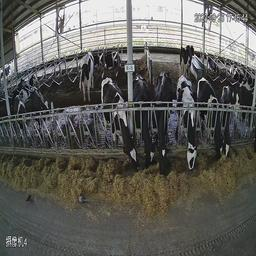cow: (99, 76, 136, 176), (132, 71, 157, 168), (198, 76, 222, 161), (154, 69, 173, 176), (176, 75, 197, 171), (219, 82, 236, 161), (31, 87, 51, 140), (78, 50, 95, 101), (12, 92, 27, 139), (178, 45, 194, 83), (104, 50, 120, 73)
